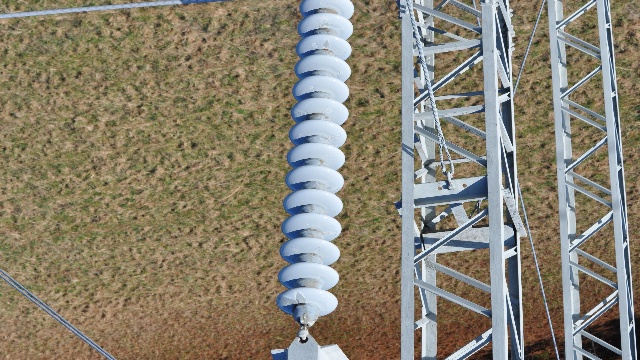insulator_unspecified: (277, 0, 355, 317)
pollution_flashover_local: (279, 291, 309, 310), (294, 108, 310, 121), (317, 17, 332, 30), (289, 244, 304, 254), (327, 133, 341, 142), (321, 39, 331, 51), (322, 230, 338, 237), (325, 185, 339, 191), (312, 247, 321, 256)
